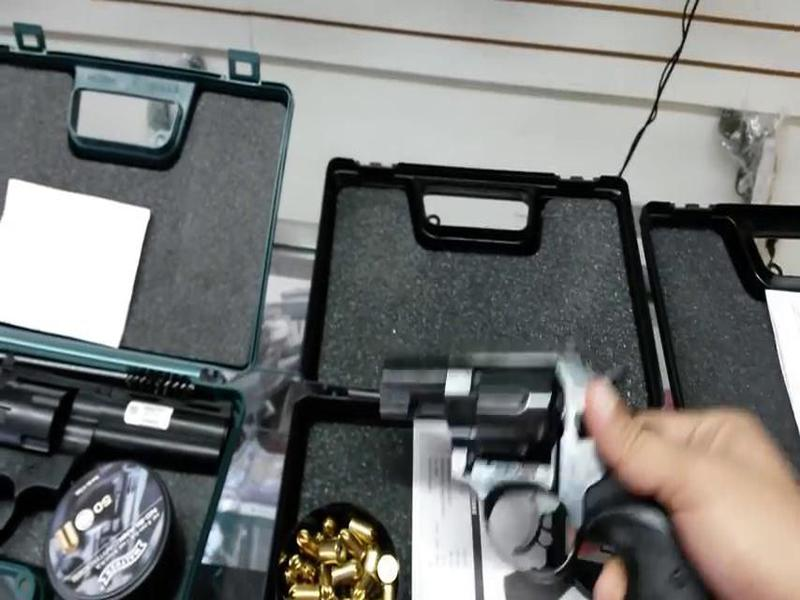Revolver: (334, 316, 738, 600)
